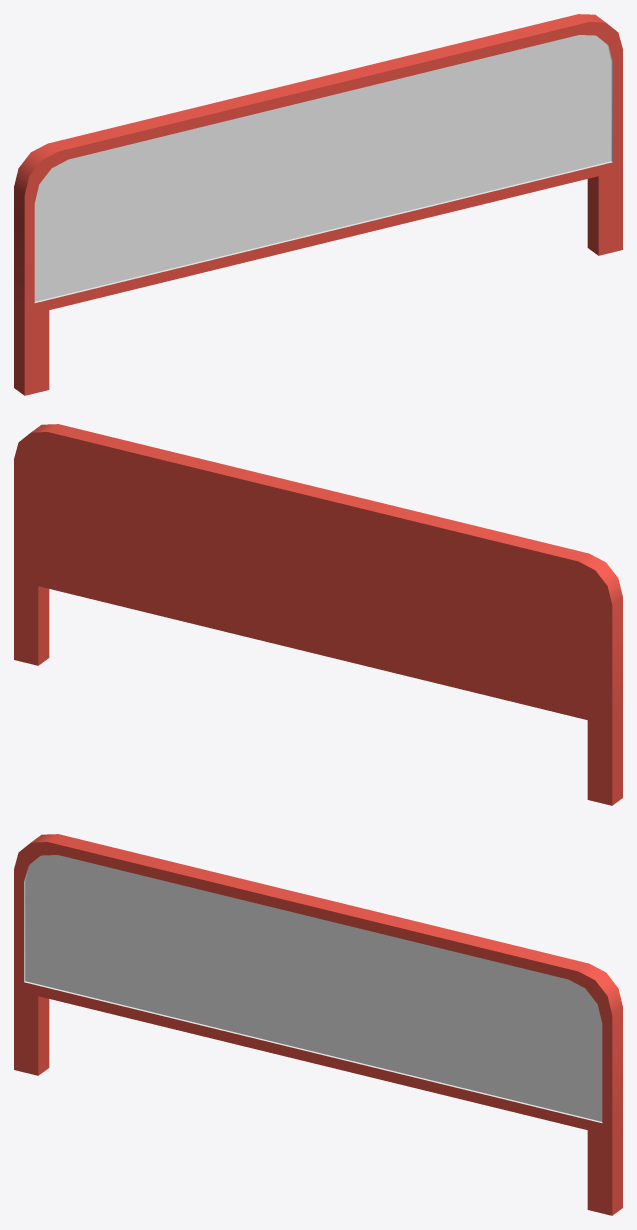
Rendered from Top_Wall2.fbx.
3 views of the same model, one above another, from view 1: azimuth 30°, elevation 25°; view 2: azimuth 150°, elevation 25°; view 3: azimuth 330°, elevation 25° (orthographic).
Parts seen in each view (by area): view 1: Cube; view 2: Cube; view 3: Cube.
Part boxes in pixels (box(x1,y1,x2,y2)): Cube: box(14, 14, 622, 395); Cube: box(14, 424, 622, 805); Cube: box(14, 834, 622, 1215).
Bounding box in the file's own units: 320 × 121 × 10.
